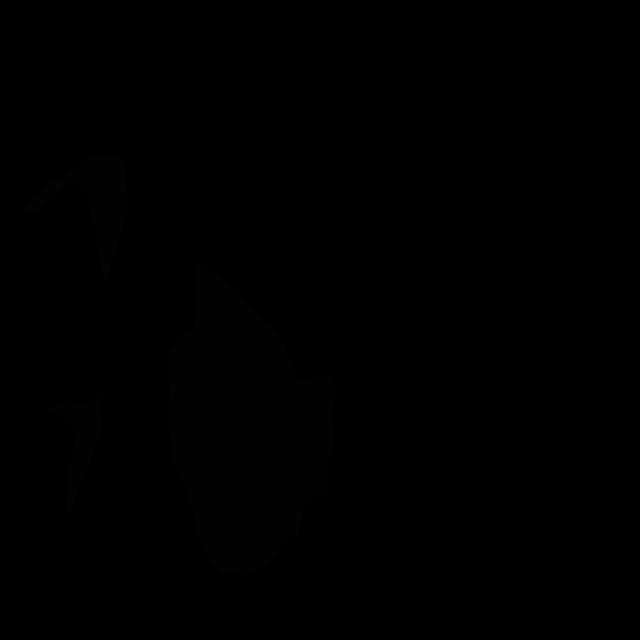cardboard: (167, 261, 338, 576), (22, 156, 128, 288), (40, 395, 102, 521)
